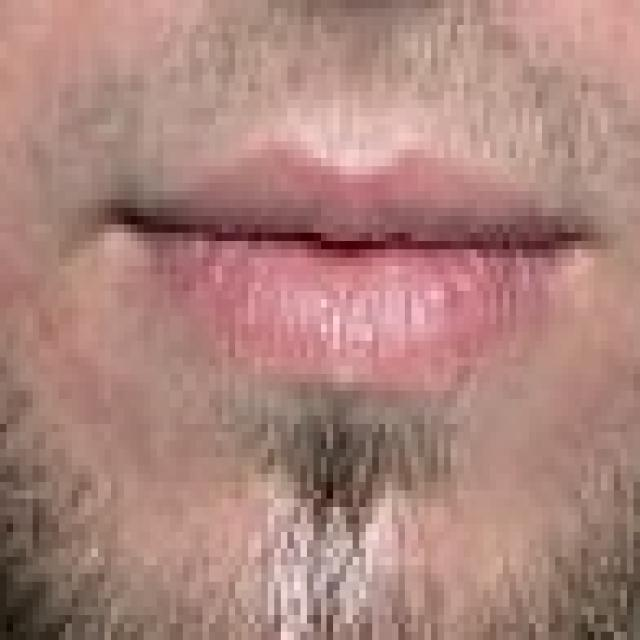closed-mouth: (91, 183, 601, 399)
